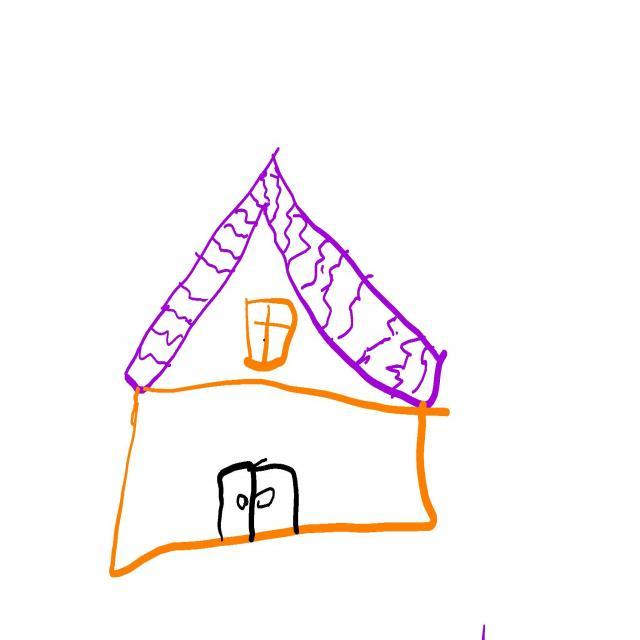door: (217, 459, 300, 543)
house: (110, 150, 449, 577)
roof: (125, 151, 446, 407)
wall: (132, 383, 426, 542)
window: (244, 299, 297, 372)
